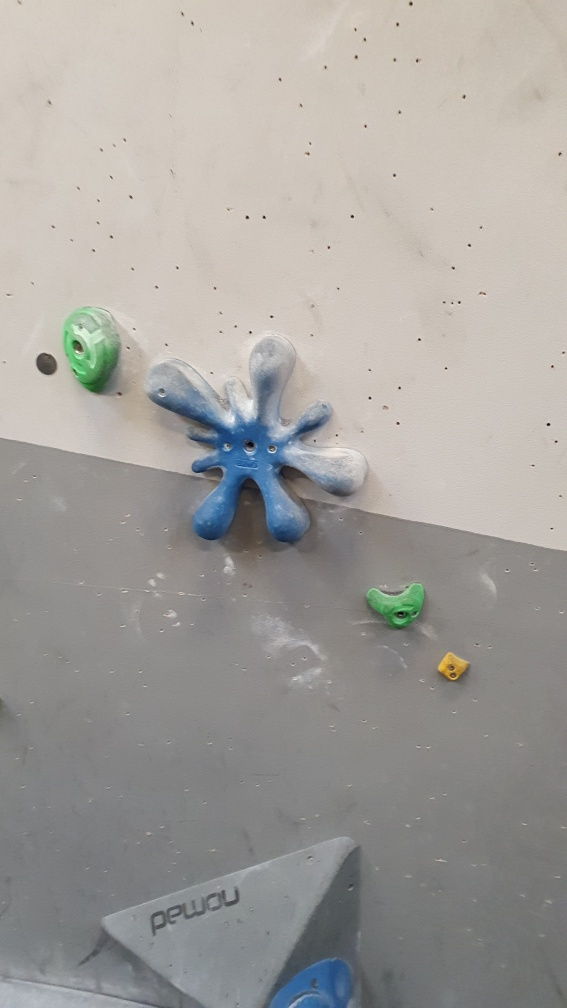Hand Start: (32, 349, 60, 382)
Jug: (61, 302, 130, 398), (366, 577, 428, 630)
Octopus Pinch: (146, 330, 375, 551)
